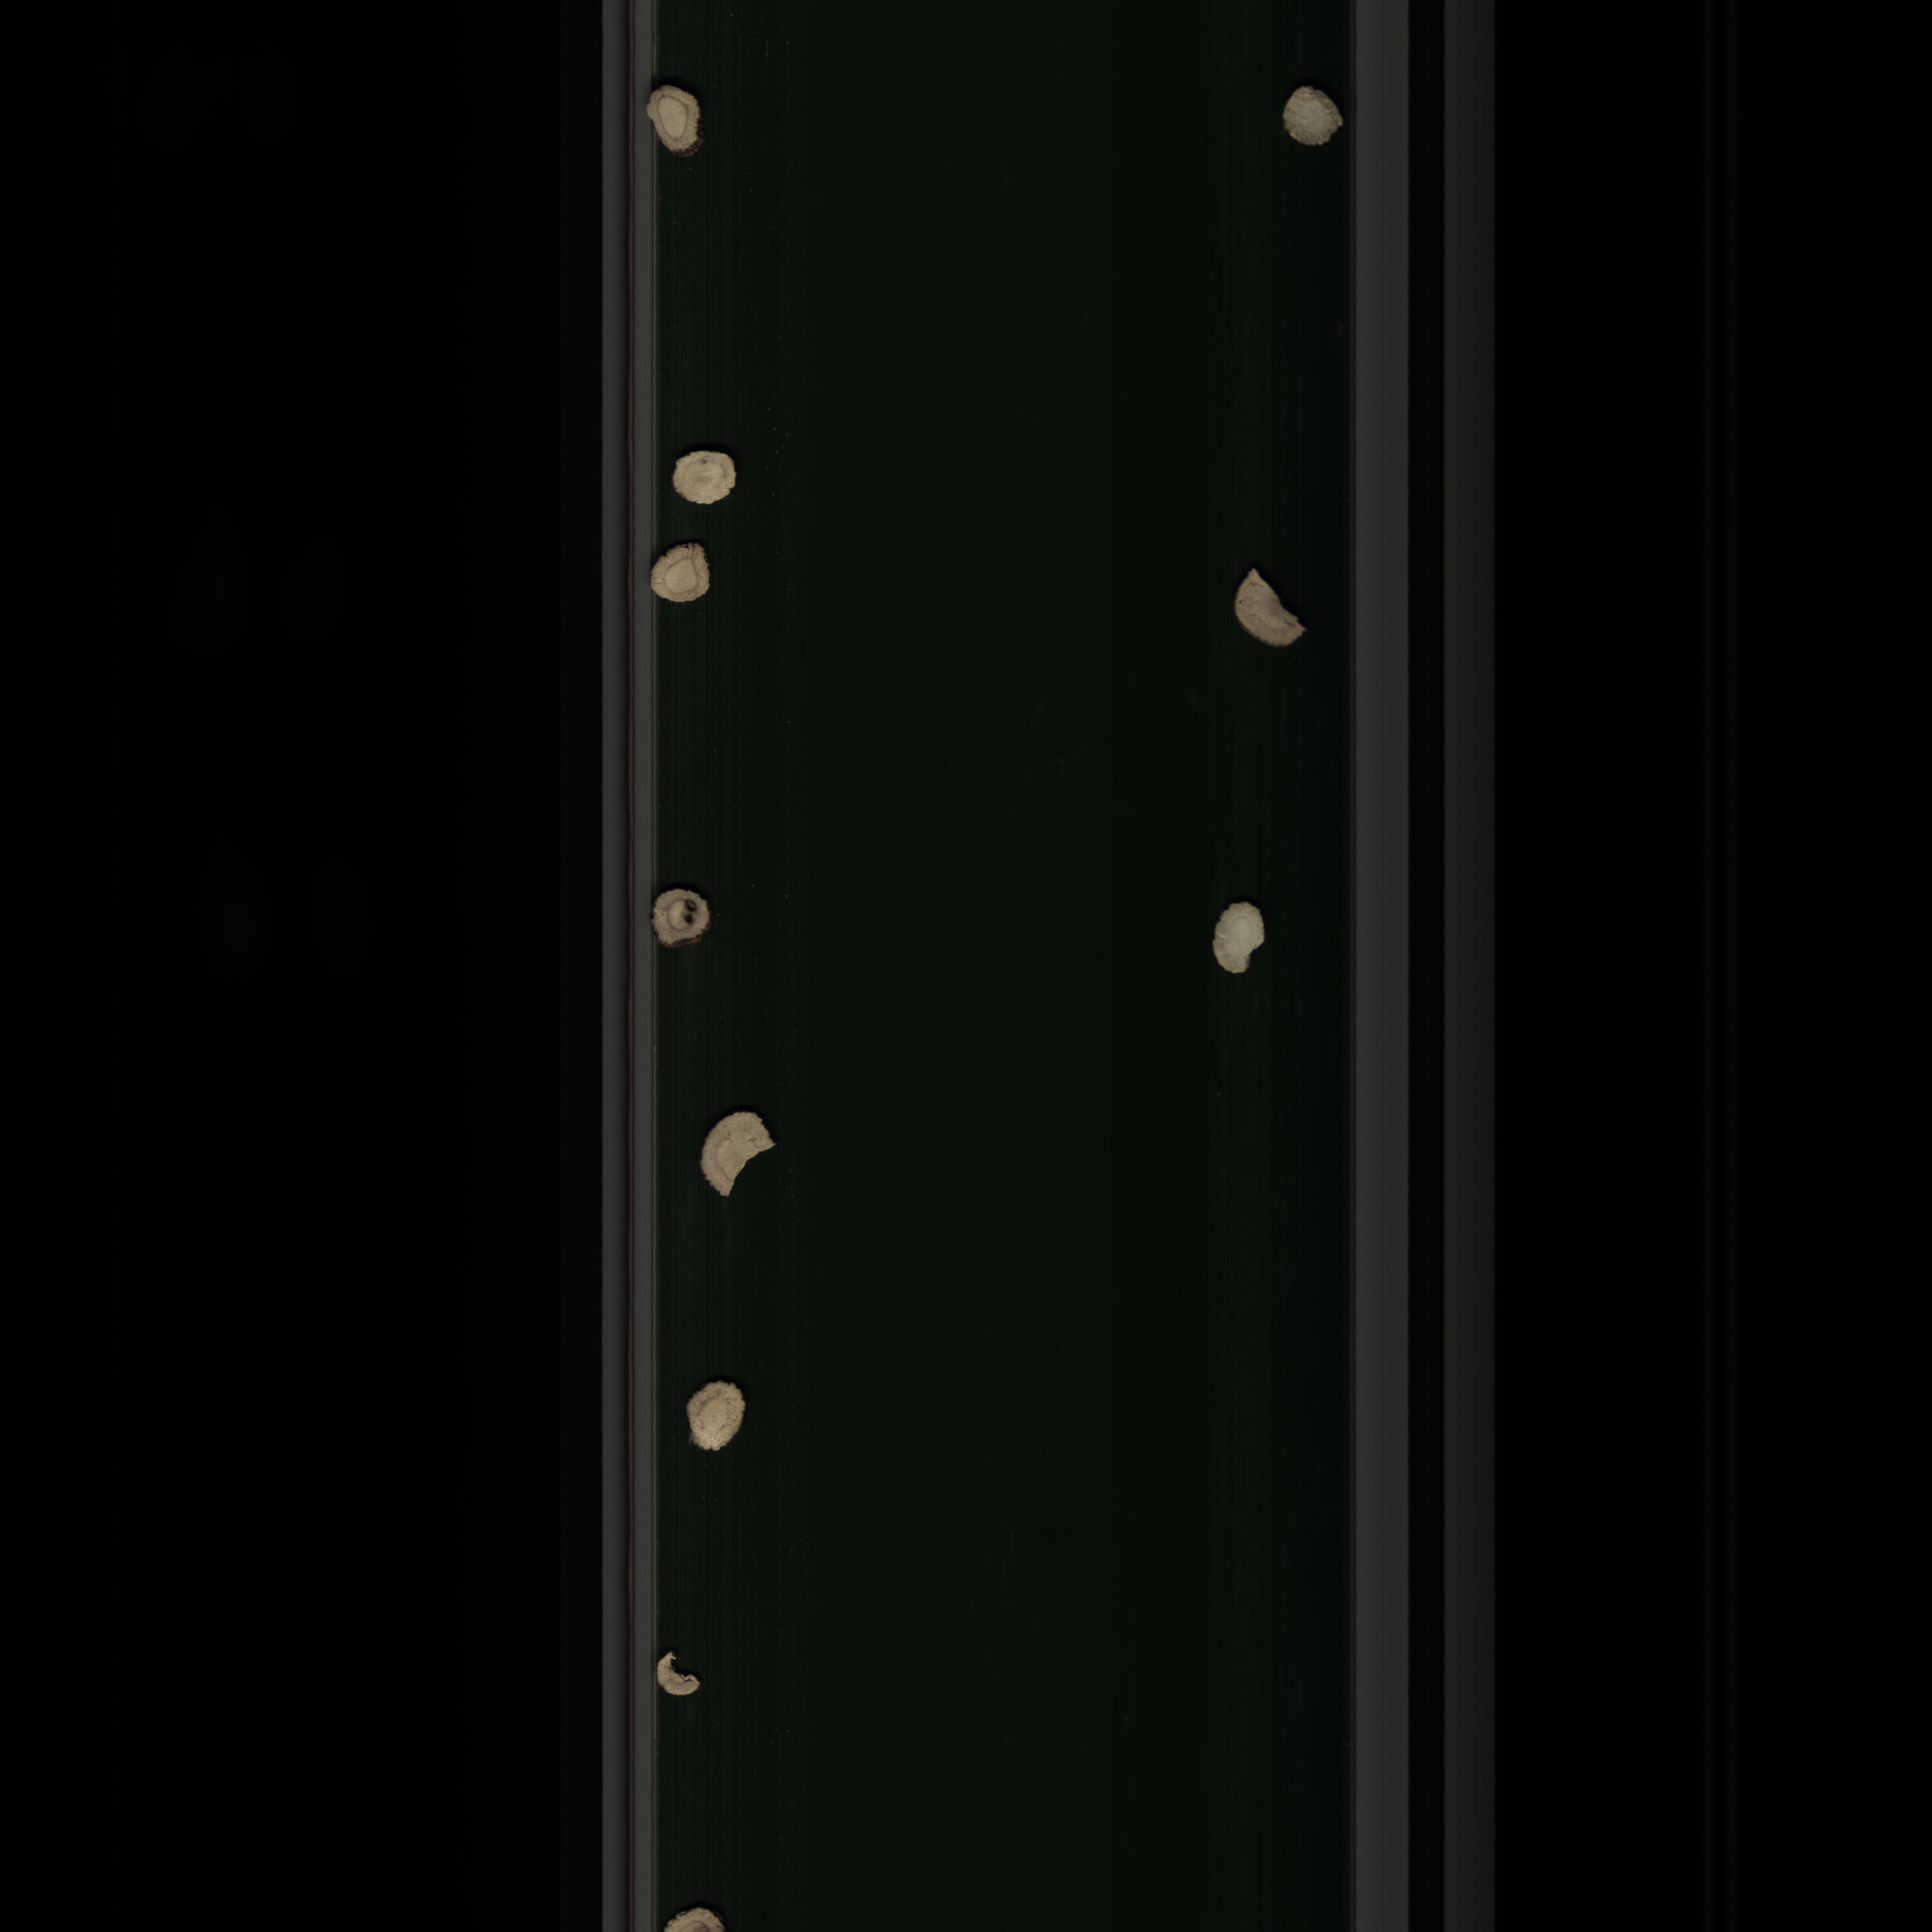debris: (694, 1104, 780, 1205), (1228, 559, 1315, 651), (1207, 892, 1281, 980), (648, 1647, 706, 1707)
moldy: (648, 885, 724, 954)
